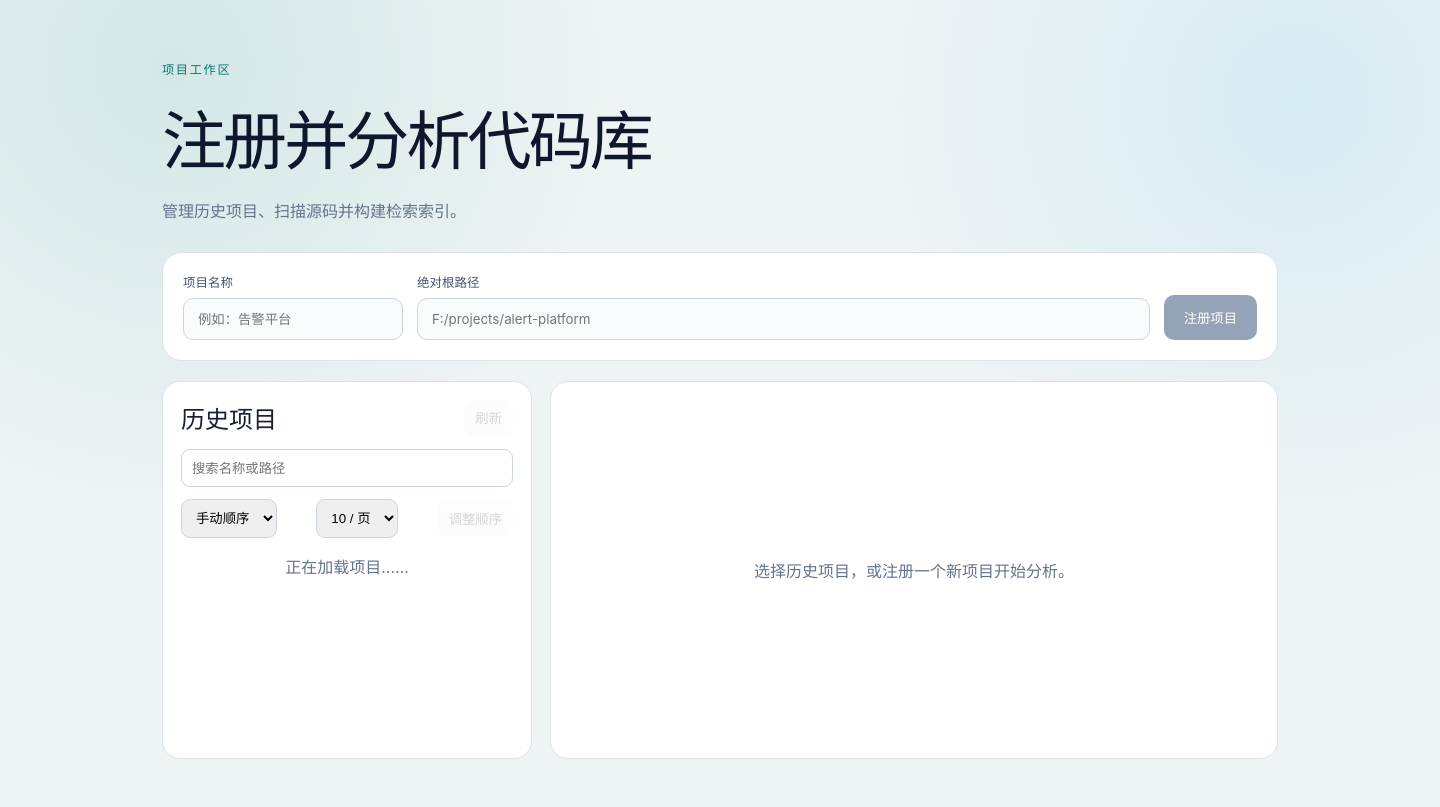
ProjectView › keeps scan results and permits retry after index failure
The width and height of the screenshot is (1440, 807).
In the field with test id "project-name": point(293, 319) [183, 298, 403, 340], type "Demo"
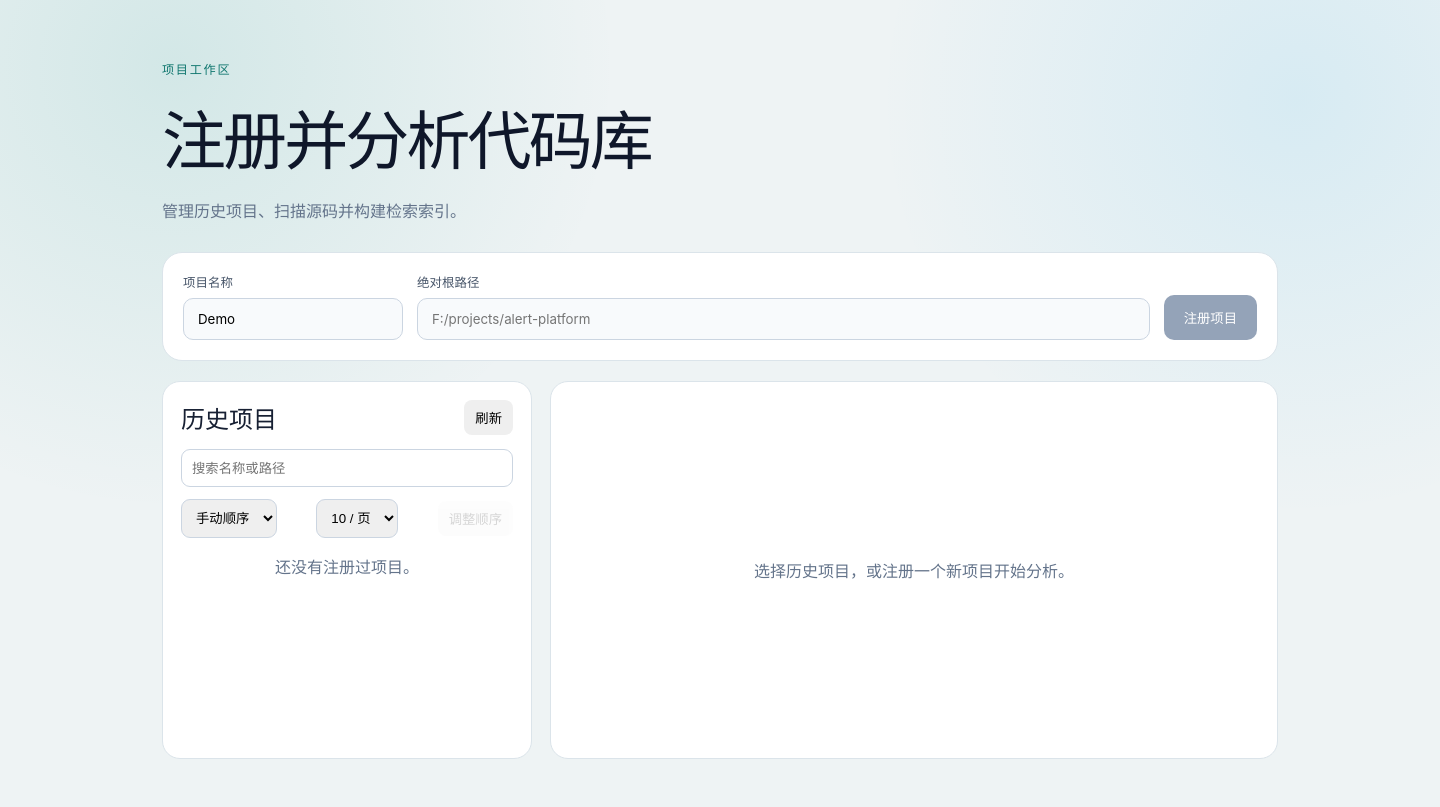
In the field with test id "root-path": point(783, 319) [417, 298, 1150, 340], type "F:/demo"
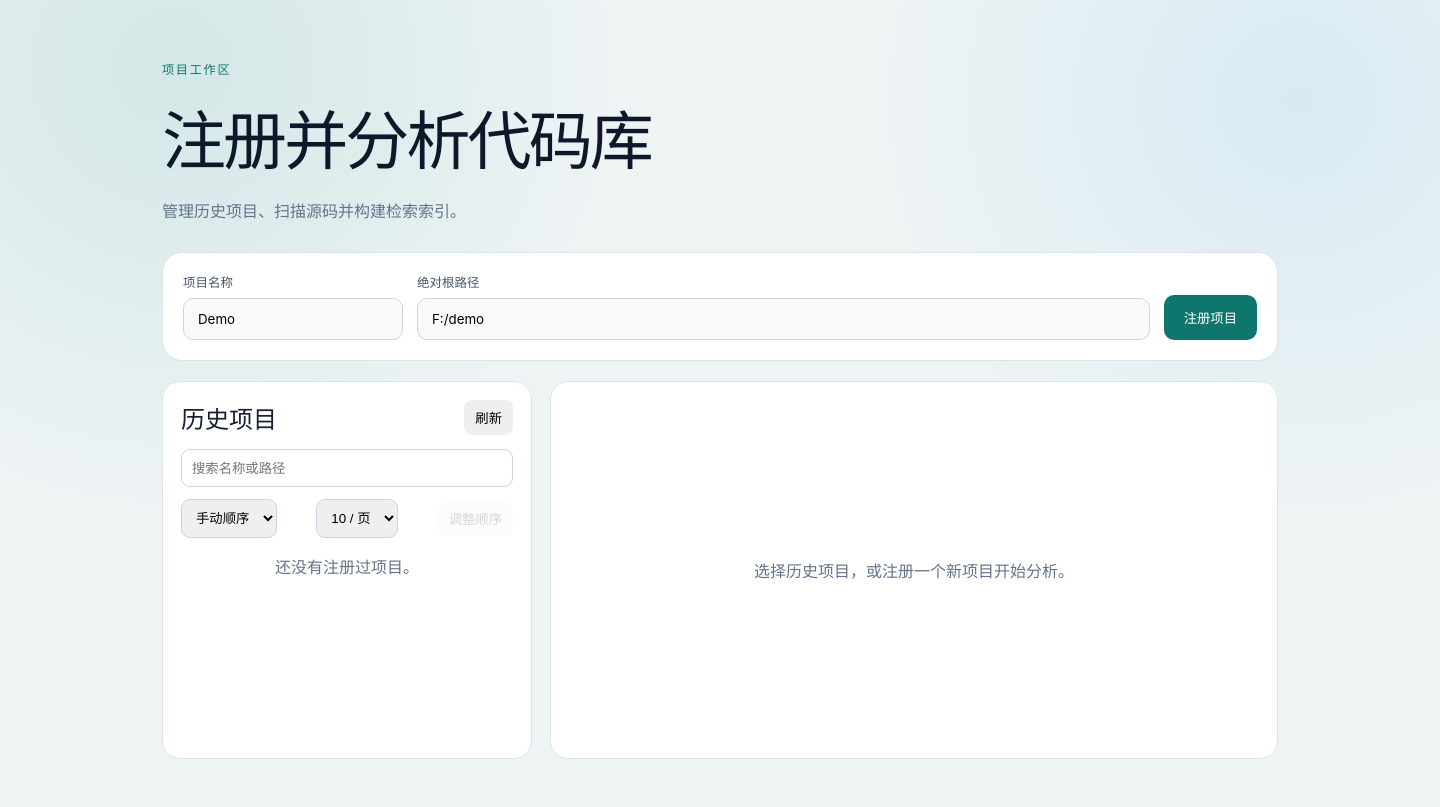
Submit the form with test id "register-form", box [183, 273, 1257, 340]
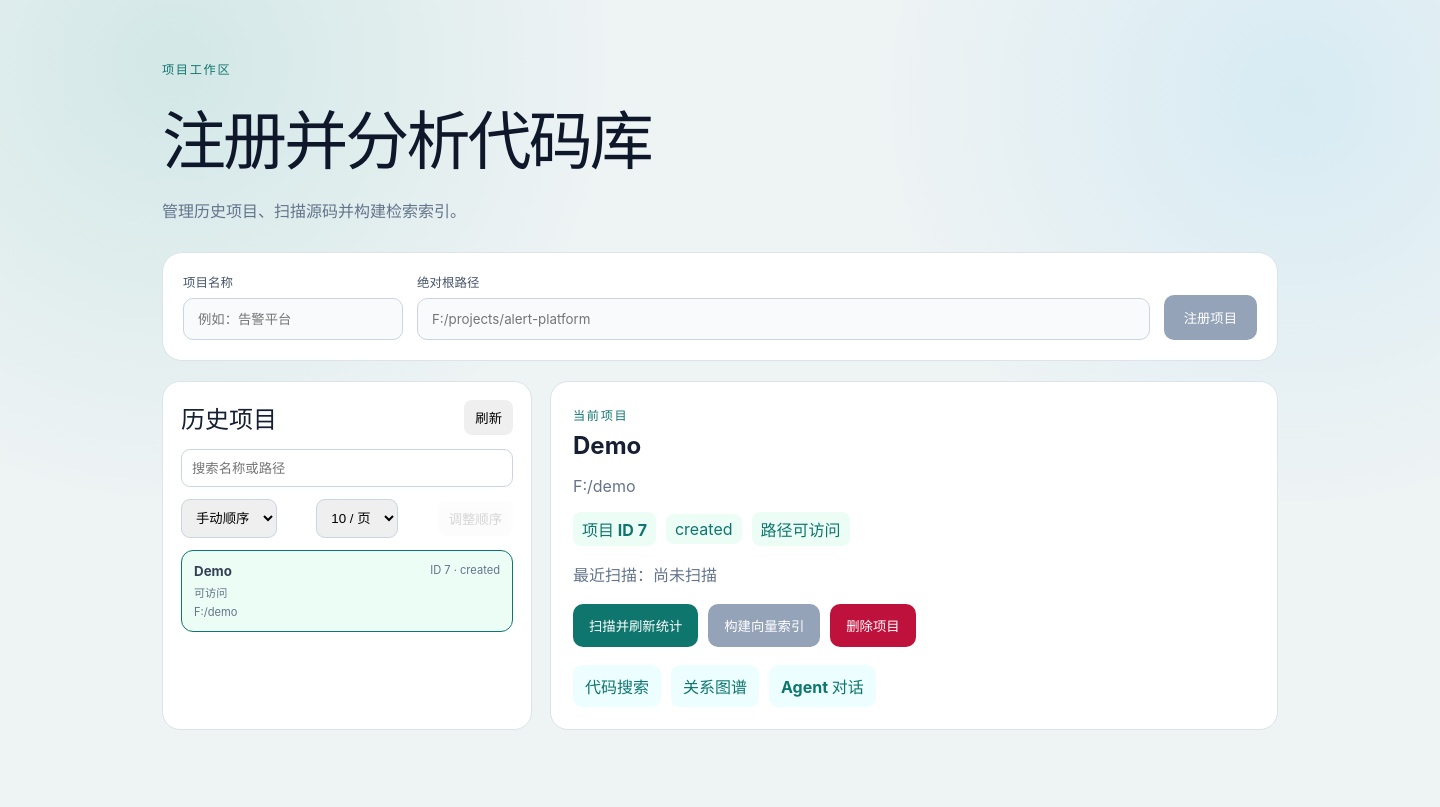
Click the button with test id "scan": point(636, 626) [573, 604, 698, 647]
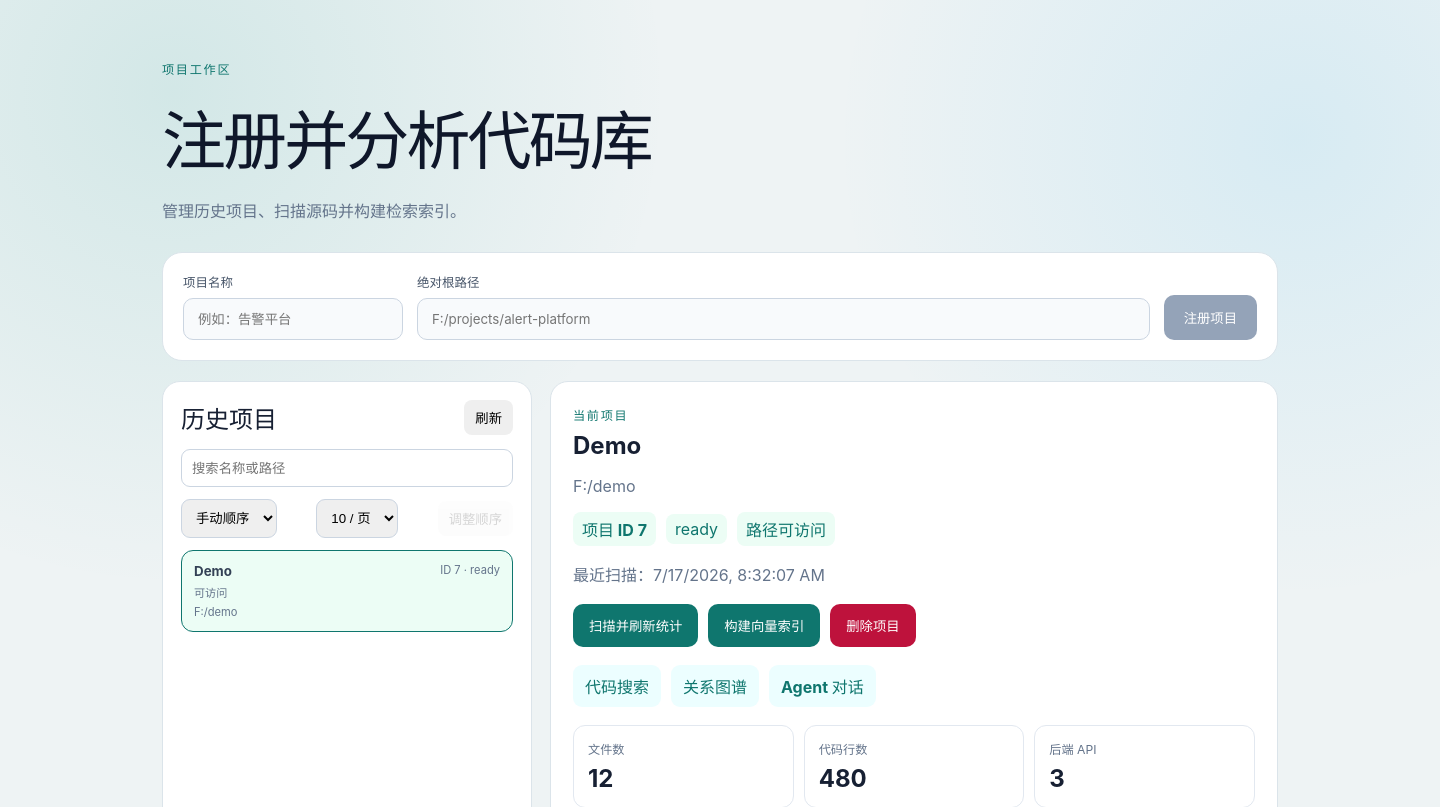
Click the button with test id "build-index": point(764, 626) [708, 604, 820, 647]
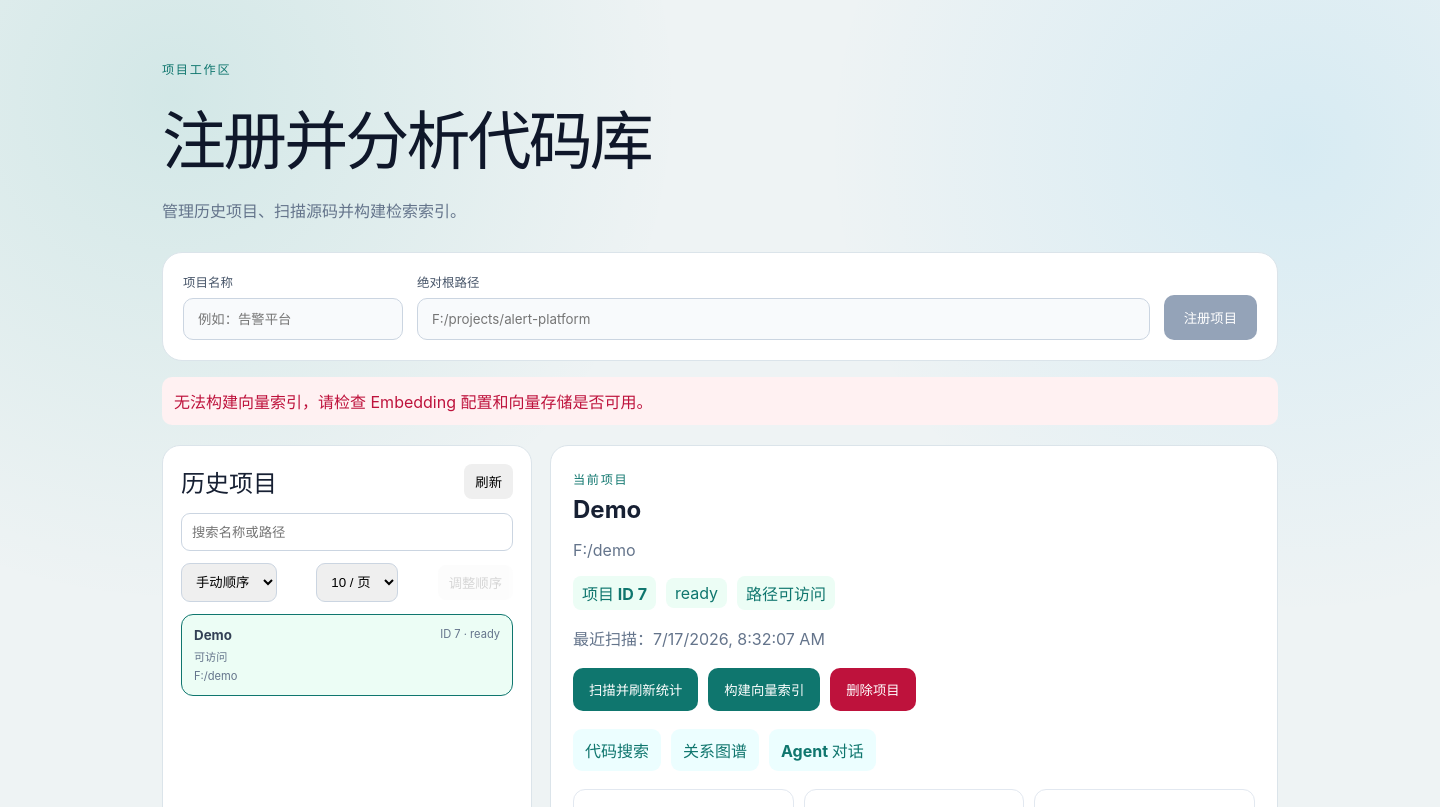
Expected: the button with test id "build-index" is enabled
Expected: the text with test id "error" shows "无法构建向量索引", [174, 392, 652, 412]
Click the button with test id "build-index": point(764, 690) [708, 668, 820, 711]
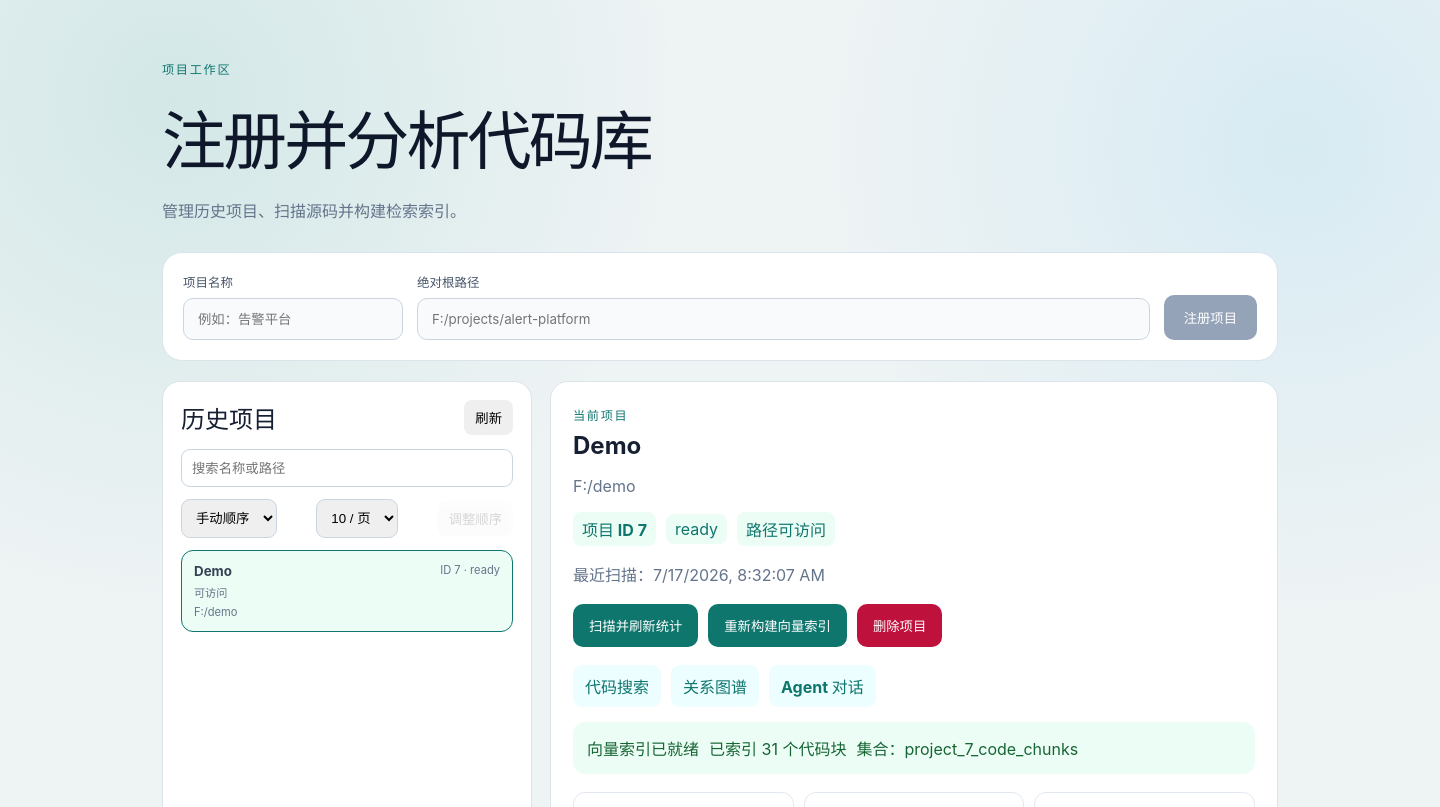
Expected: the element with test id "index-result" shows "31", [709, 739, 846, 759]
